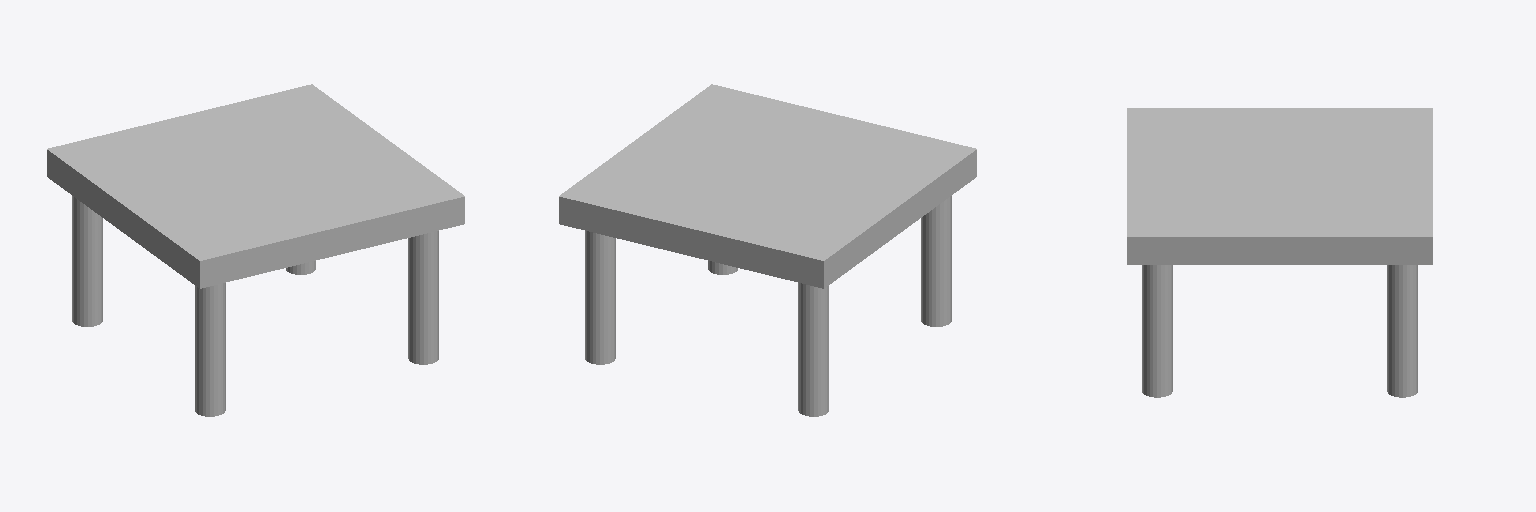
File: Table.obj
3 views of the same model, side by side, from view 1: azimuth 30°, elevation 25°; view 2: azimuth 150°, elevation 25°; view 3: azimuth 270°, elevation 25° (orthographic).
Visible parts, largest first — view 1: Body1, Body2; view 2: Body1, Body2; view 3: Body1.
Boxes of the visible parts, x1=… form: Body1: x1=47, y1=84, x2=464, y2=416; Body2: x1=72, y1=196, x2=102, y2=326; Body1: x1=559, y1=84, x2=976, y2=364; Body2: x1=798, y1=283, x2=828, y2=416; Body1: x1=1127, y1=108, x2=1432, y2=397.
Size of the model in its own units: 10 by 6 by 10.